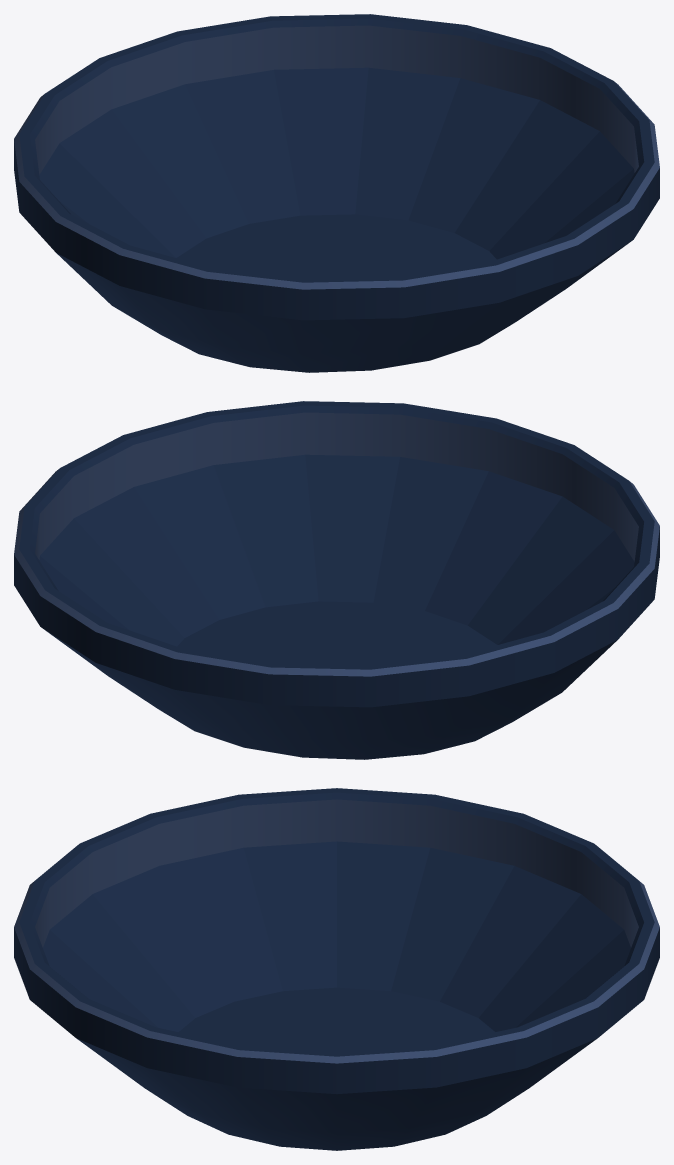
The model's file is plate.fbx.
3 views of the same model, one above another, from view 1: azimuth 30°, elevation 25°; view 2: azimuth 150°, elevation 25°; view 3: azimuth 270°, elevation 25° (orthographic).
Parts seen in each view (by area): view 1: pCylinder1; view 2: pCylinder1; view 3: pCylinder1.
Part boxes in pixels (x1,y1,x2,y2): pCylinder1: [14, 14, 659, 372]; pCylinder1: [14, 401, 659, 759]; pCylinder1: [14, 788, 659, 1150].
Size of the model in its own units: 48.85 by 11.97 by 48.85.
